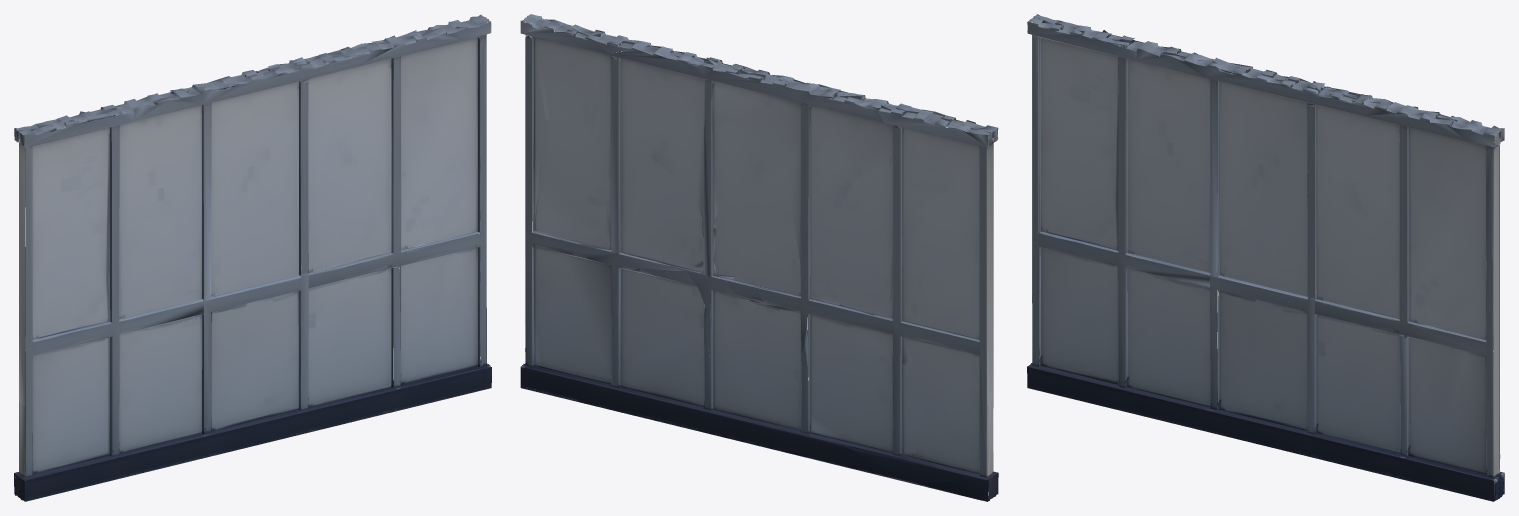
Rendered from partition.glb.
The picture shows the model from 3 angles, left to right: view 1: azimuth 30°, elevation 25°; view 2: azimuth 150°, elevation 25°; view 3: azimuth 330°, elevation 25°; orthographic projection.
Visible parts, largest first — view 1: Industrial_partition; view 2: Industrial_partition; view 3: Industrial_partition.
Part boxes in pixels (x1=…): Industrial_partition: x1=14, y1=14, x2=491, y2=501; Industrial_partition: x1=520, y1=14, x2=998, y2=501; Industrial_partition: x1=1027, y1=14, x2=1504, y2=501.
Bounding box in the file's own units: 4.02 × 3.02 × 0.1814.
1 material, 1 textured.
